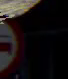No overtake: (0, 7, 28, 76)
